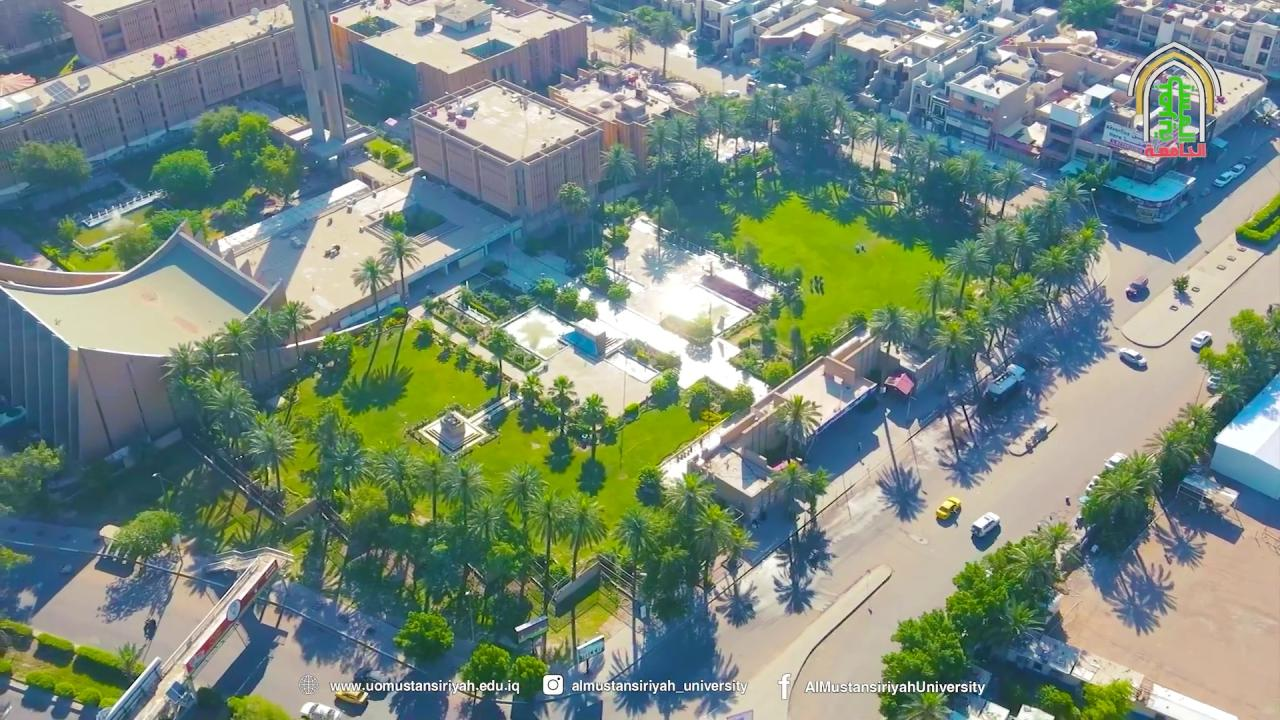car: (983, 363, 1026, 402), (1213, 162, 1246, 187), (971, 511, 1000, 538), (299, 702, 344, 719), (1118, 347, 1147, 370), (936, 496, 961, 521), (334, 687, 368, 704), (1103, 452, 1128, 472), (1190, 331, 1212, 350), (1206, 370, 1223, 394), (1084, 474, 1102, 495), (578, 13, 594, 24), (724, 89, 740, 98)
fountain: (648, 286, 743, 340), (78, 187, 167, 228), (506, 310, 577, 359)
person: (142, 617, 156, 641), (750, 505, 760, 528)
tree: (611, 470, 758, 630), (877, 607, 969, 719), (611, 505, 664, 671), (558, 492, 608, 665), (498, 460, 547, 599), (300, 410, 371, 505), (1081, 448, 1162, 527), (1142, 400, 1216, 485), (524, 489, 572, 617), (463, 493, 510, 622), (192, 367, 258, 457), (771, 525, 835, 615), (690, 502, 741, 611), (7, 137, 91, 199), (0, 437, 64, 517), (110, 508, 182, 578), (241, 410, 297, 492), (369, 441, 423, 523), (782, 83, 833, 169), (217, 110, 272, 188), (560, 492, 608, 581), (771, 459, 830, 530), (148, 147, 214, 206), (942, 236, 992, 312), (439, 458, 490, 529), (928, 315, 982, 380), (392, 609, 454, 665), (413, 448, 457, 524), (241, 305, 287, 377), (377, 229, 421, 304), (498, 460, 547, 527), (250, 142, 300, 206), (874, 462, 924, 524), (192, 103, 242, 165), (1030, 243, 1082, 302), (774, 393, 821, 458), (458, 642, 511, 699), (215, 316, 258, 382), (350, 255, 395, 318), (643, 119, 677, 202), (858, 112, 897, 181), (944, 148, 991, 205), (866, 301, 915, 355), (997, 596, 1045, 648), (597, 141, 637, 203), (1079, 676, 1137, 718), (358, 313, 395, 378), (276, 299, 315, 360), (575, 393, 611, 459), (988, 159, 1027, 219), (1236, 192, 1280, 243), (111, 223, 157, 270), (797, 464, 830, 529), (914, 266, 954, 319), (704, 95, 736, 161), (649, 11, 680, 76), (1055, 0, 1119, 31), (759, 82, 788, 149), (720, 579, 759, 628), (509, 653, 548, 701), (772, 572, 815, 614), (515, 371, 544, 432), (486, 331, 512, 398), (547, 374, 576, 434), (225, 692, 291, 718), (896, 689, 953, 719), (1034, 682, 1079, 719), (634, 464, 667, 508), (1032, 517, 1072, 553), (115, 640, 147, 683), (556, 180, 589, 220), (649, 368, 680, 410), (574, 457, 606, 497), (581, 245, 609, 287), (616, 26, 646, 62), (553, 285, 579, 320), (606, 281, 631, 316), (380, 208, 407, 234), (1171, 273, 1190, 295)
